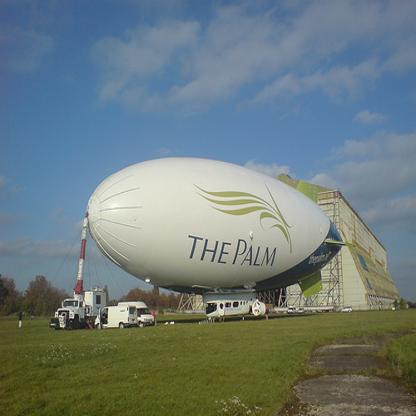Airship: (84, 154, 353, 299)
